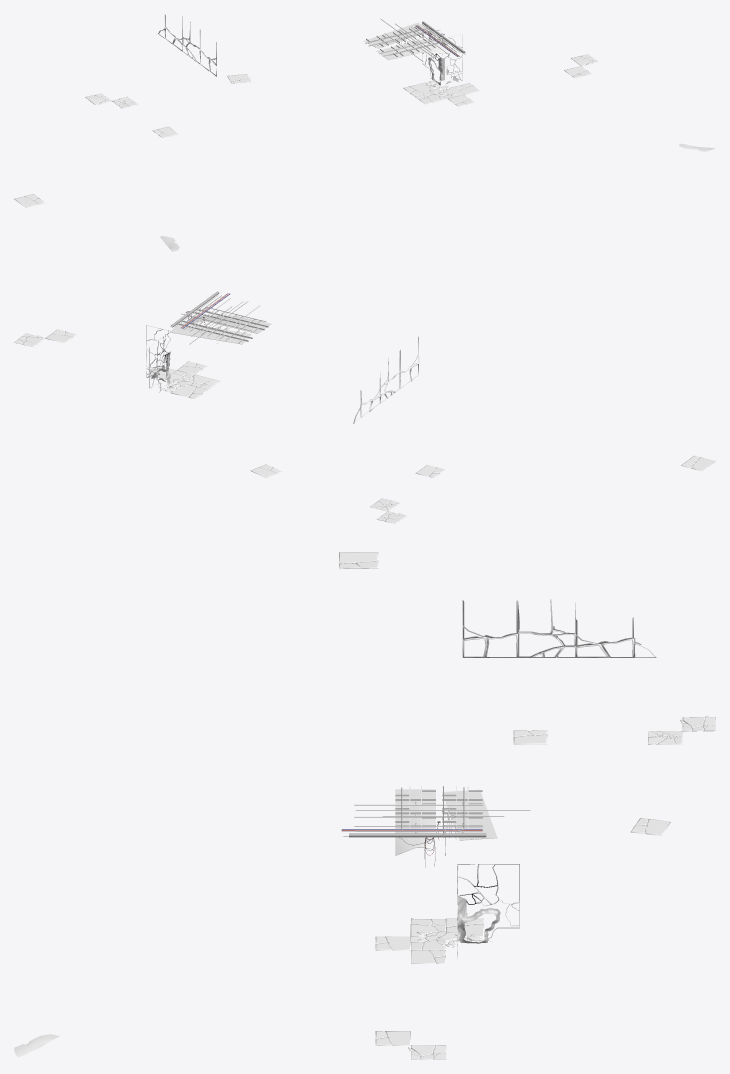
3 renders of one model, top to bottom at view 1: azimuth 30°, elevation 25°; view 2: azimuth 150°, elevation 25°; view 3: azimuth 270°, elevation 25°, orthographic. The views are drawn at different scales.
Visible parts, largest first — view 1: SM_H_Building_FutureTech_CtControl_01_InterWall_15A; view 2: SM_H_Building_FutureTech_CtControl_01_InterWall_15A; view 3: SM_H_Building_FutureTech_CtControl_01_InterWall_15A.
Part boxes in pixels (bbox=[...]): SM_H_Building_FutureTech_CtControl_01_InterWall_15A: bbox=[14, 14, 715, 207]; SM_H_Building_FutureTech_CtControl_01_InterWall_15A: bbox=[14, 236, 715, 523]; SM_H_Building_FutureTech_CtControl_01_InterWall_15A: bbox=[14, 552, 715, 1059].
Bounding box in the file's own units: 1156 × 1876 × 299.
